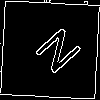N: (25, 25, 84, 83)
